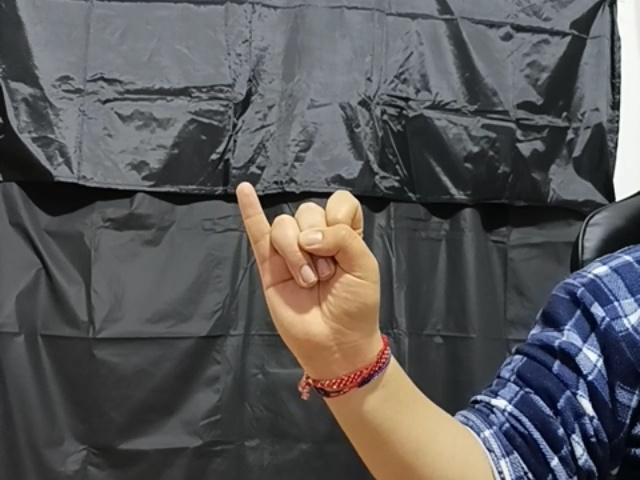I: (235, 181, 402, 355)
